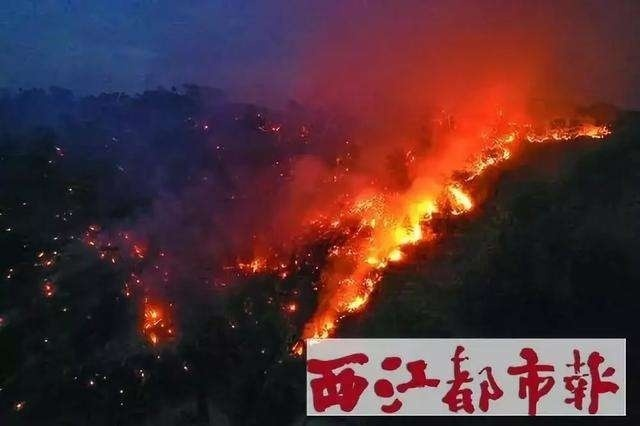fire: (234, 92, 625, 346), (139, 302, 168, 344)
